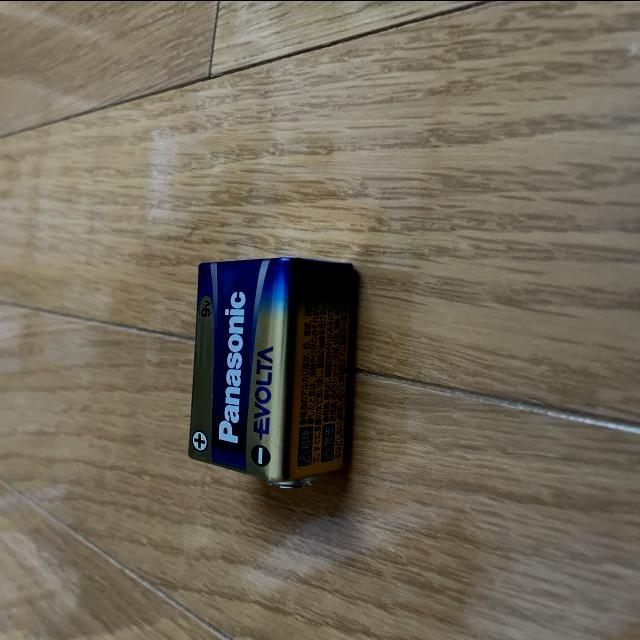9V: (187, 255, 357, 488)
